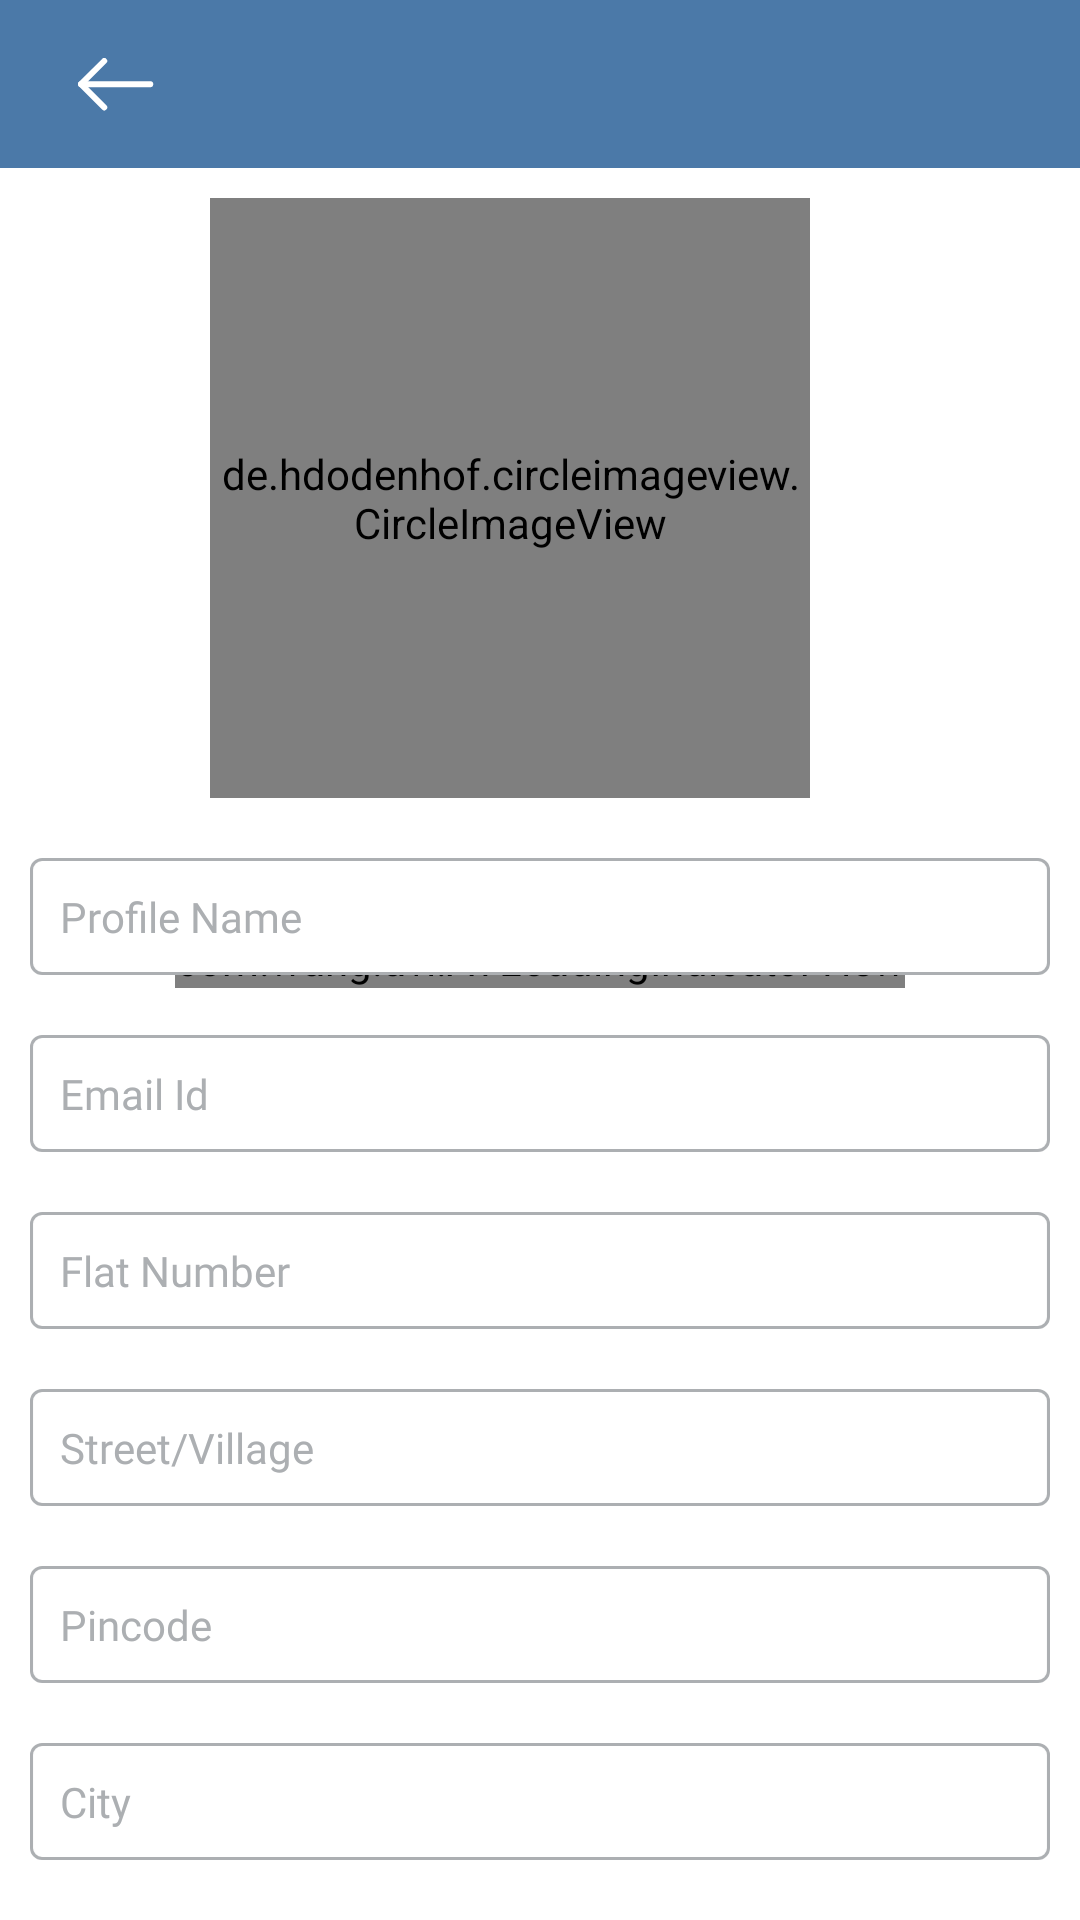

Icon click points for this 1080px×1920px phone screenshot, format (x=x, y=y):
back: (x=116, y=84)
